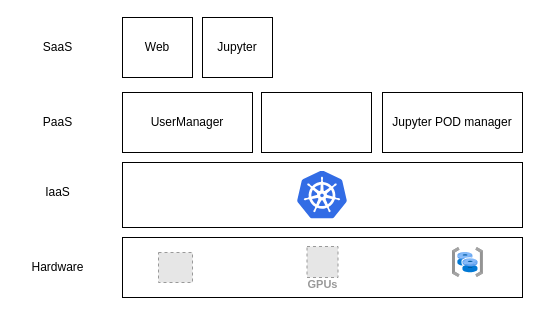
Image size: 540x316. Some labels were removed from this diagram. Grey dashed boxes stand in for pictures. Each missing label, with the centre of its shape:
disk: (x=467, y=262)
ProjectManager: (x=316, y=122)
